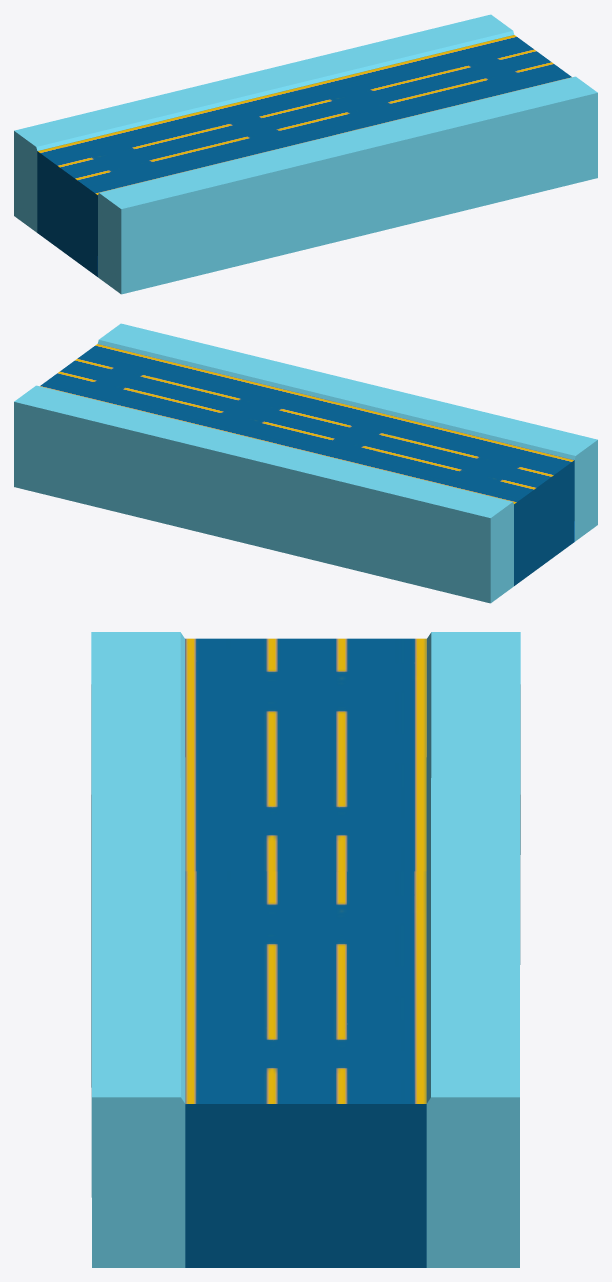
Rendered from newroad4.fbx.
The picture shows the model from 3 angles, top to bottom: view 1: azimuth 30°, elevation 25°; view 2: azimuth 150°, elevation 25°; view 3: azimuth 270°, elevation 25°; orthographic projection. The views are drawn at different scales.
Visible parts, largest first — view 1: Cube.001; view 2: Cube.001; view 3: Cube.001.
Part boxes in pixels (x1,y1,x2,y2): Cube.001: (14,14,597,294); Cube.001: (14,323,597,603); Cube.001: (91,632,520,1267).
Bounding box in the file's own units: 3830 × 655 × 1493.
Materials: 2 (1 with a texture image).
